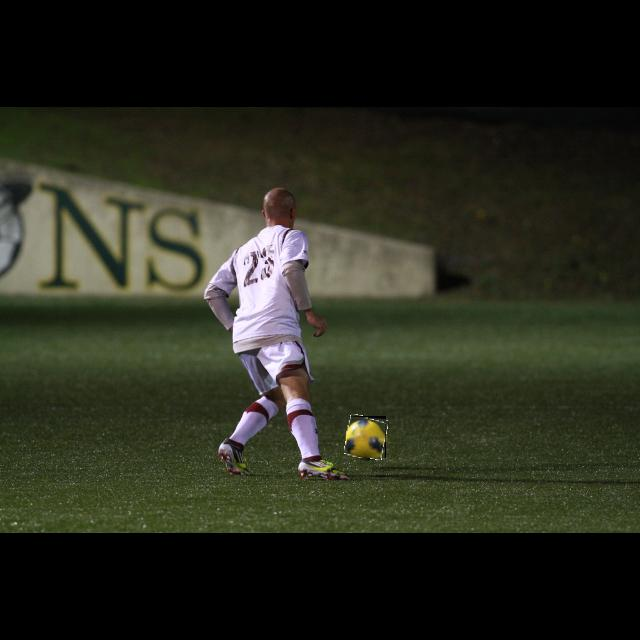Football: (346, 416, 386, 458)
